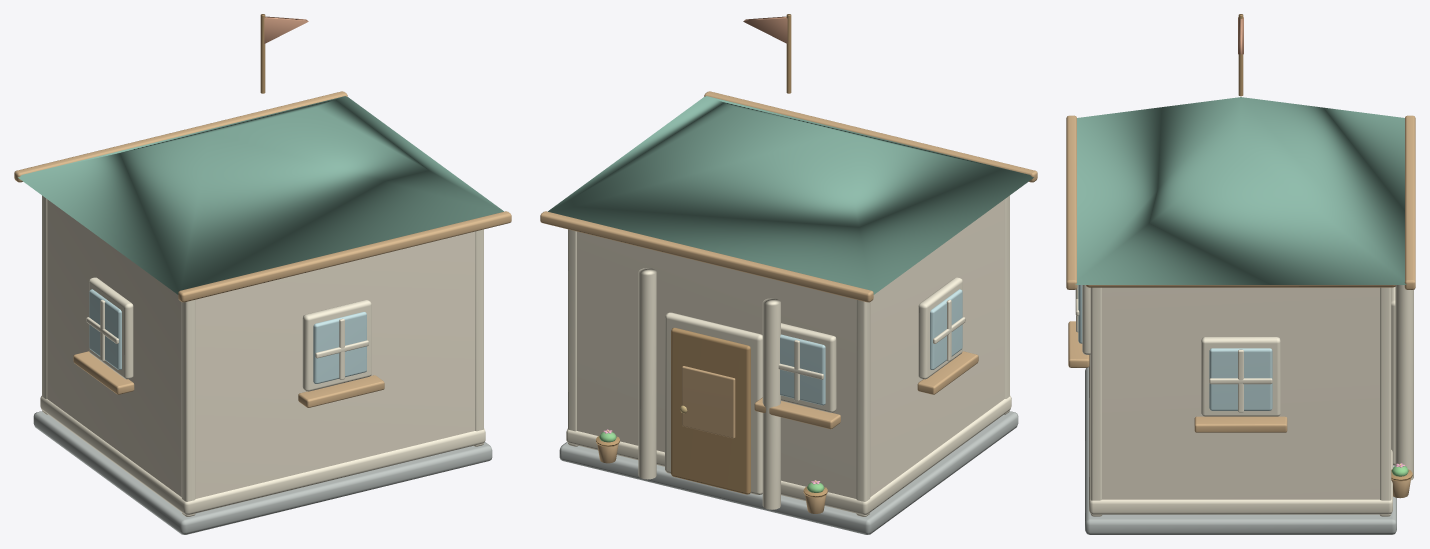
Rendered from townhall.glb.
3 renders of one model, left to right at view 1: azimuth 30°, elevation 25°; view 2: azimuth 150°, elevation 25°; view 3: azimuth 270°, elevation 25°, orthographic. The views are drawn at different scales.
Bounding box in the file's own units: 3.62 × 4.42 × 3.16.
